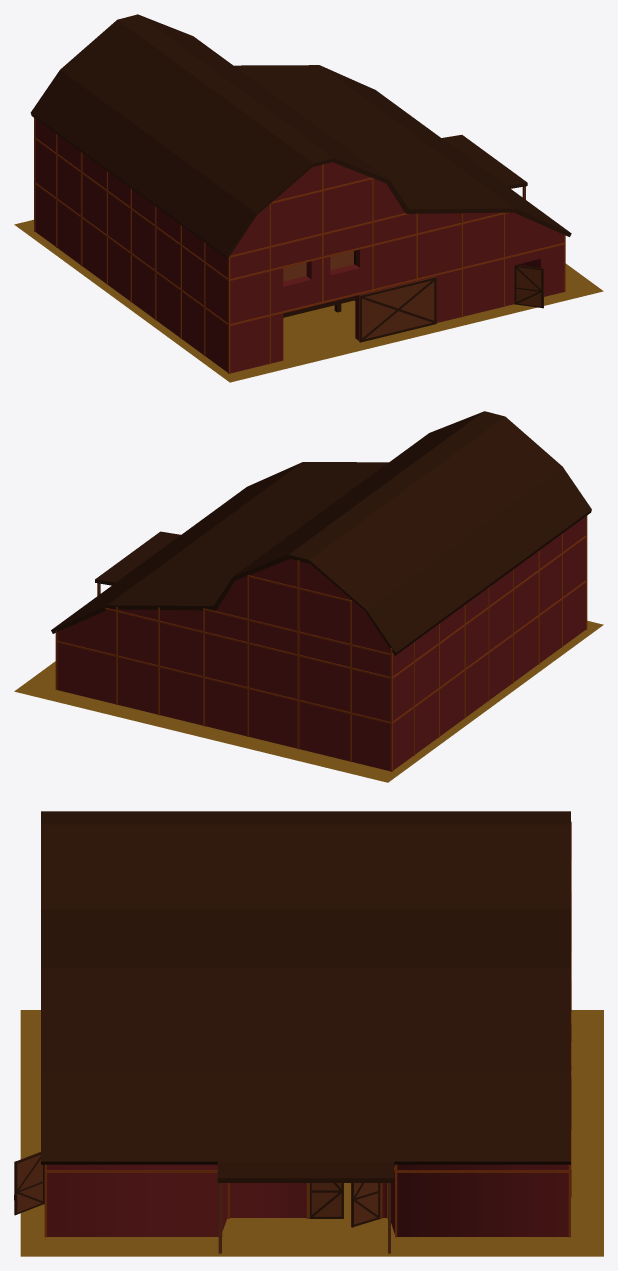
Rendered from Barn.fbx.
The picture shows the model from 3 angles, top to bottom: view 1: azimuth 30°, elevation 25°; view 2: azimuth 150°, elevation 25°; view 3: azimuth 270°, elevation 25°; orthographic projection. The views are drawn at different scales.
Visible parts, largest first — view 1: Roof, Walls, Plane002, OutterBeams001, Box066, Box073, Box037, 2ndFloor, Box036; view 2: Walls, Roof, OutterBeams001, Plane002; view 3: Roof, Walls, Plane002, OutterBeams001, Box037, Box018, Box019.
Boxes of the visible parts, left/top/right/bottom form: Roof: left=30, top=14, right=571, bottom=259; Walls: left=35, top=119, right=563, bottom=373; Plane002: left=14, top=219, right=603, bottom=382; OutterBeams001: left=34, top=118, right=565, bottom=373; Box066: left=359, top=276, right=435, bottom=342; Box073: left=360, top=277, right=436, bottom=342; Box037: left=514, top=265, right=543, bottom=307; 2ndFloor: left=283, top=251, right=353, bottom=281; Box036: left=514, top=265, right=543, bottom=308; Walls: left=57, top=517, right=585, bottom=771; Roof: left=51, top=411, right=591, bottom=655; OutterBeams001: left=55, top=516, right=587, bottom=771; Plane002: left=14, top=620, right=603, bottom=782; Roof: left=41, top=811, right=570, bottom=1182; Walls: left=47, top=1164, right=568, bottom=1236; Plane002: left=20, top=1010, right=603, bottom=1256; OutterBeams001: left=44, top=821, right=571, bottom=1237; Box037: left=14, top=1152, right=42, bottom=1214; Box018: left=309, top=1183, right=343, bottom=1218; Box019: left=351, top=1183, right=378, bottom=1227.
Bounding box in the file's own units: 787 × 387 × 796.
